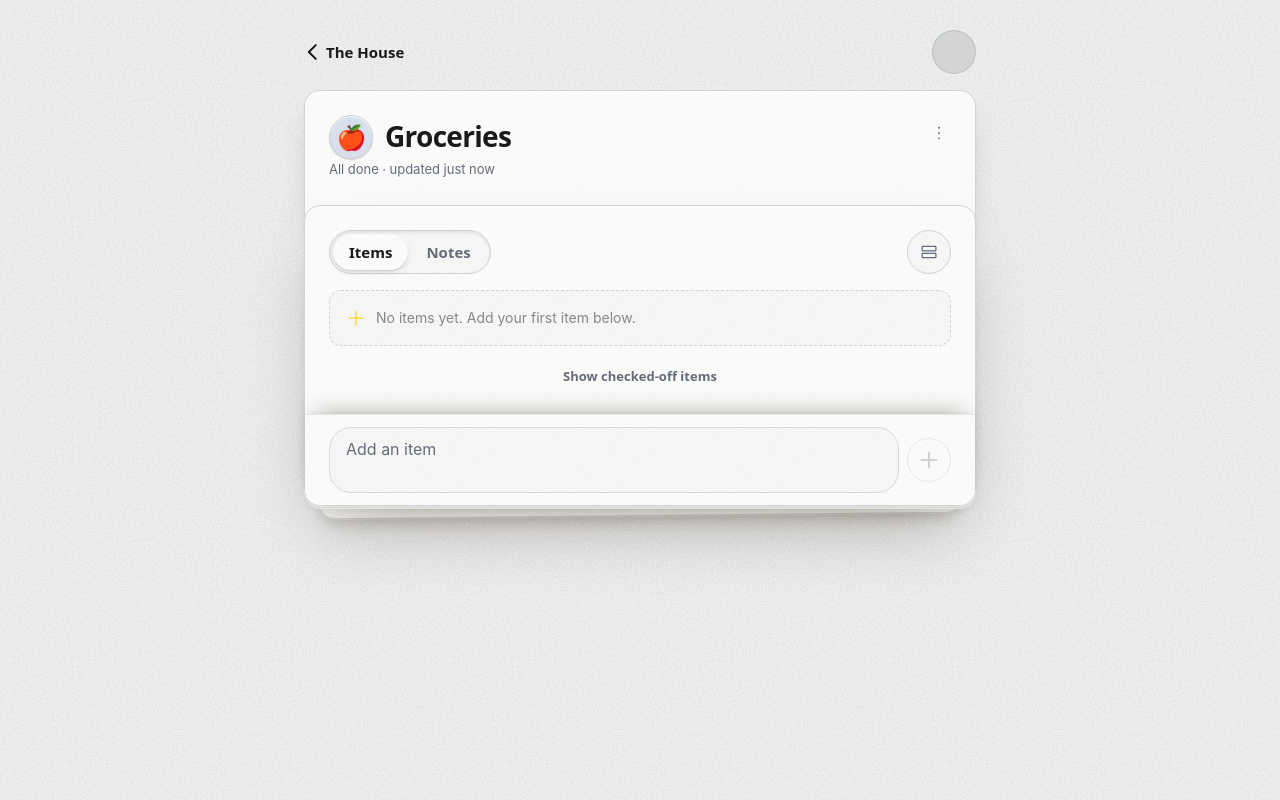
ListPage notes › allows typing and saving notes
The width and height of the screenshot is (1280, 800).
Note: Switch to Notes tab
Click the tab "Notes".
click(449, 252)  # box left=410, top=234, right=487, bottom=270
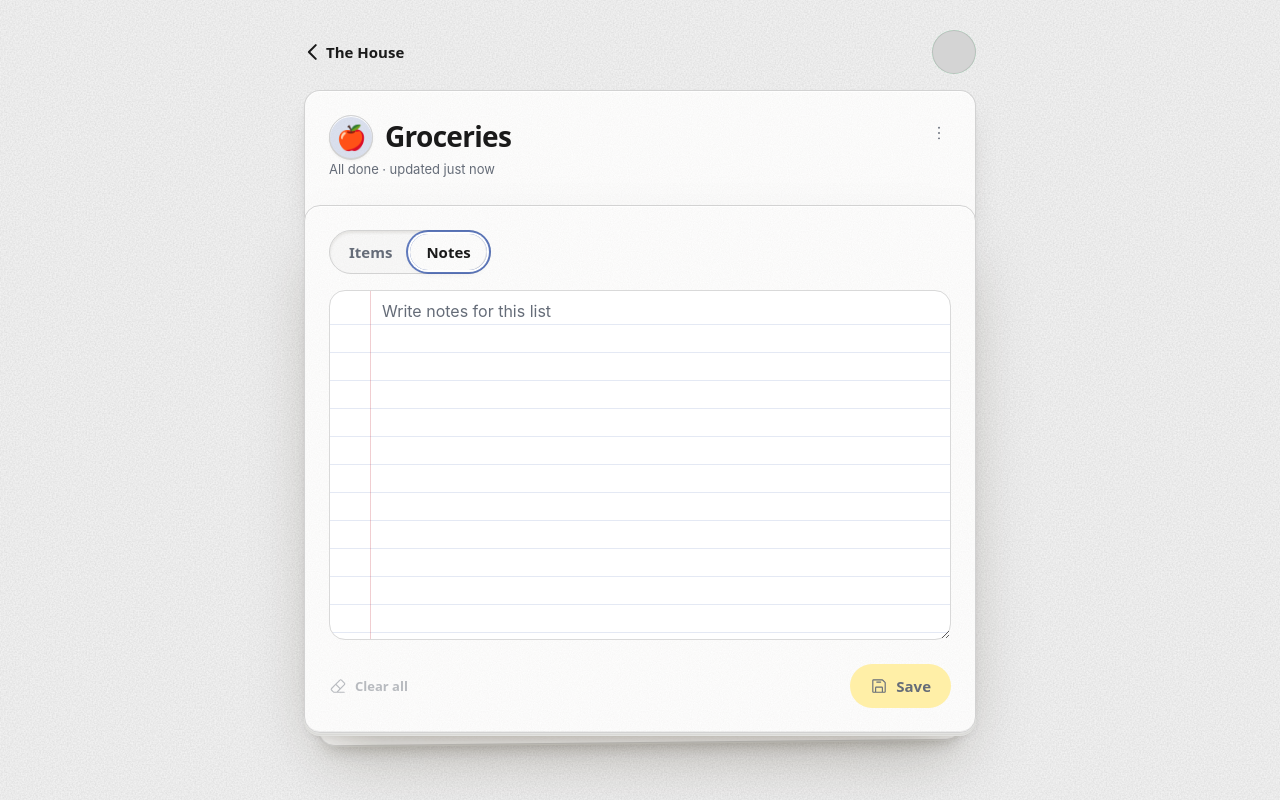
Type "Buy oat milk" into the text box with placeholder "Write notes for this list".
click(640, 465); type("Buy oat milk")  # box left=329, top=290, right=951, bottom=640
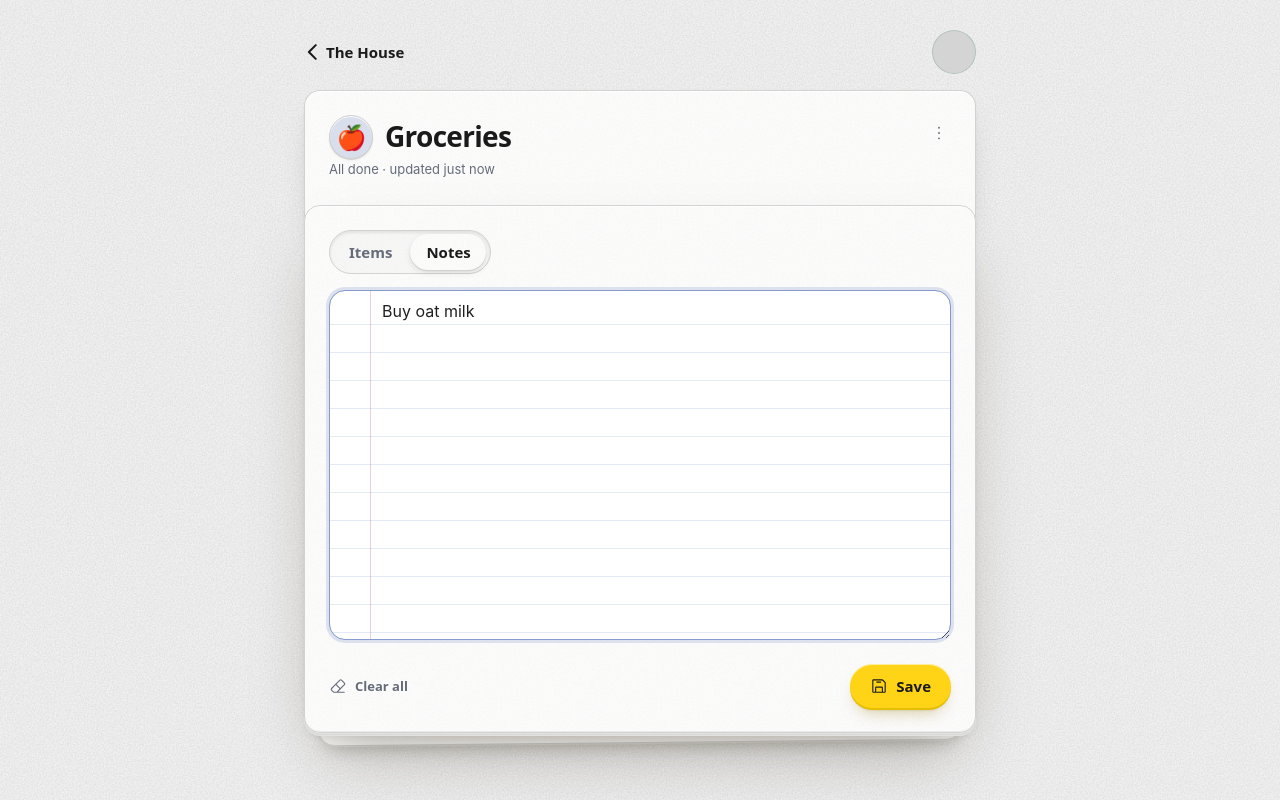
Click the button "Save".
click(901, 686)  # box left=850, top=664, right=951, bottom=708
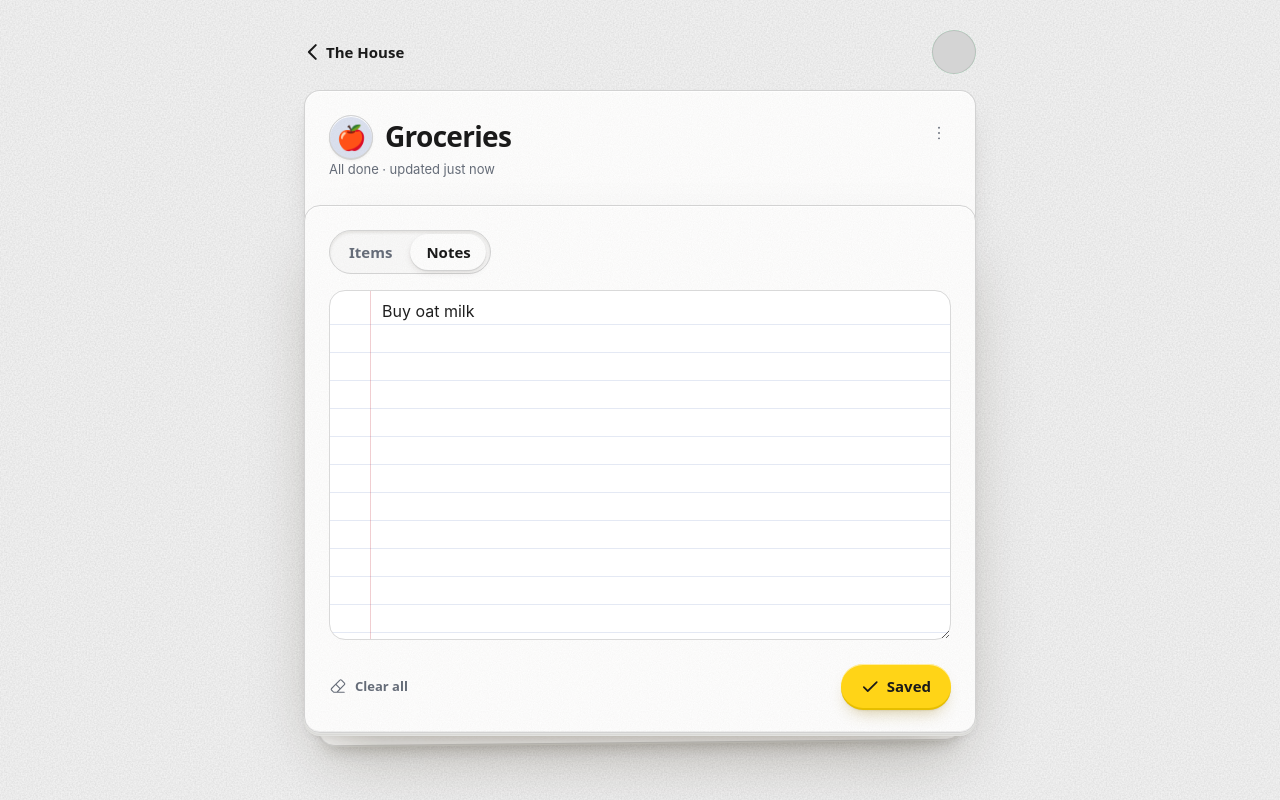
Now the button "Saved" is shown, box left=841, top=664, right=951, bottom=708
